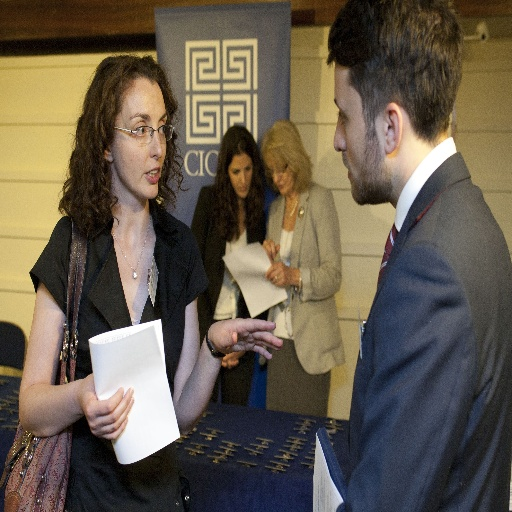hand: (197, 315, 282, 374), (75, 372, 135, 443), (262, 258, 292, 288), (260, 237, 280, 260), (220, 349, 243, 366), (222, 353, 239, 369)
